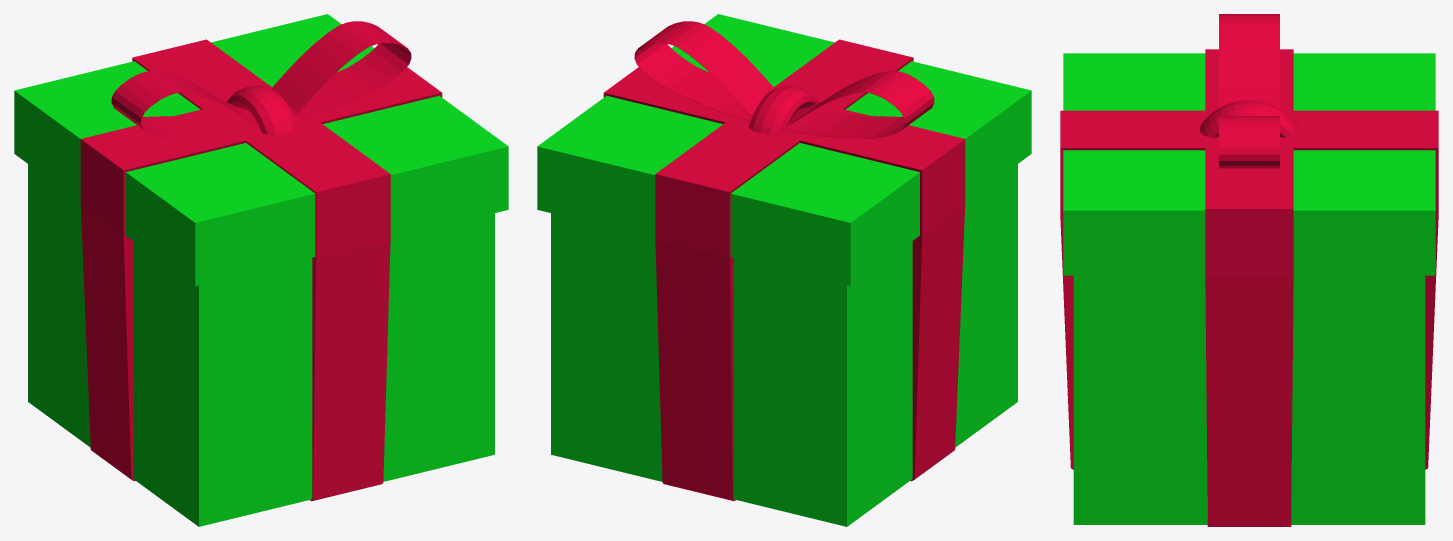
The model's file is present.fbx.
3 renders of one model, left to right at view 1: azimuth 30°, elevation 25°; view 2: azimuth 150°, elevation 25°; view 3: azimuth 270°, elevation 25°, orthographic. The views are drawn at different scales.
Parts seen in each view (by area): view 1: Cube, Plane, Torus; view 2: Cube, Plane, Torus; view 3: Cube, Plane, Torus.
Boxes of the visible parts, left/top/right/bottom form: Cube: left=14, top=14, right=508, bottom=526; Plane: left=111, top=21, right=411, bottom=138; Torus: left=226, top=85, right=297, bottom=134; Cube: left=537, top=14, right=1031, bottom=526; Plane: left=634, top=21, right=934, bottom=138; Torus: left=748, top=85, right=819, bottom=134; Cube: left=1060, top=49, right=1438, bottom=526; Plane: left=1219, top=14, right=1279, bottom=168; Torus: left=1199, top=100, right=1299, bottom=137.
Bounding box in the file's own units: 215 × 241 × 215.
